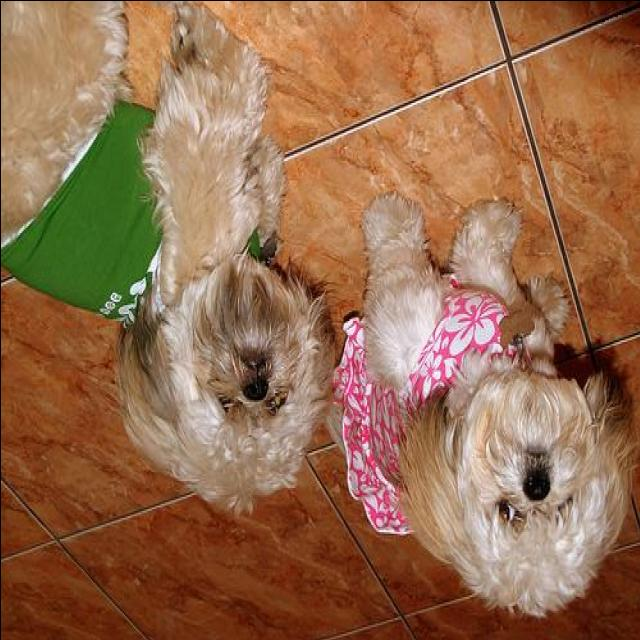shih_tzu: (2, 1, 336, 506), (326, 190, 630, 612)
